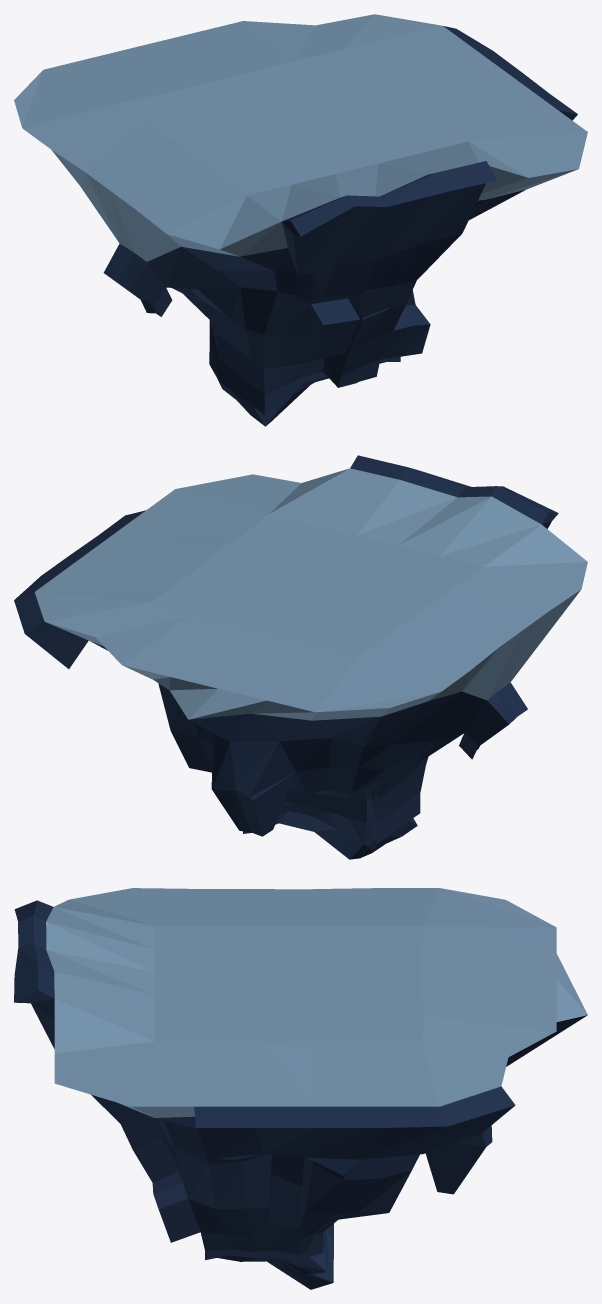
Rendered from island_2_Night.fbx.
3 renders of one model, top to bottom at view 1: azimuth 30°, elevation 25°; view 2: azimuth 150°, elevation 25°; view 3: azimuth 270°, elevation 25°, orthographic. The views are drawn at different scales.
Parts seen in each view (by area): view 1: pCube1; view 2: pCube1; view 3: pCube1.
Boxes of the visible parts, left/top/right/bottom form: pCube1: left=14, top=14, right=587, bottom=426; pCube1: left=14, top=455, right=587, bottom=859; pCube1: left=14, top=888, right=587, bottom=1289.
Size of the model in its own units: 33.94 by 21.6 by 35.8.
